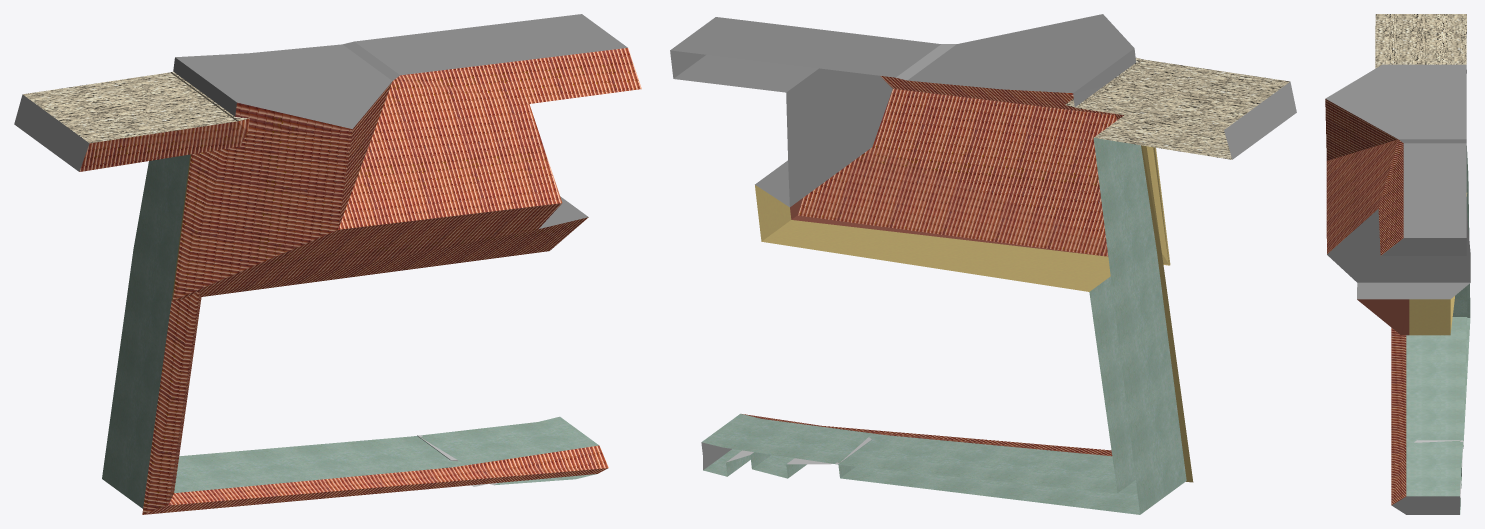
File: Toom-Kooli_15_2-origo.obj
3 renders of one model, left to right at view 1: azimuth 30°, elevation 25°; view 2: azimuth 150°, elevation 25°; view 3: azimuth 270°, elevation 25°, orthographic. The views are drawn at different scales.
Visible parts, largest first — view 1: Toom_Kooli_15_2; view 2: Toom_Kooli_15_2; view 3: Toom_Kooli_15_2.
Part boxes in pixels (bbox=[...]): Toom_Kooli_15_2: bbox=[14, 14, 641, 514]; Toom_Kooli_15_2: bbox=[670, 14, 1296, 514]; Toom_Kooli_15_2: bbox=[1325, 14, 1470, 514].
Size of the model in its own units: 21.19 by 17 by 6.9.
